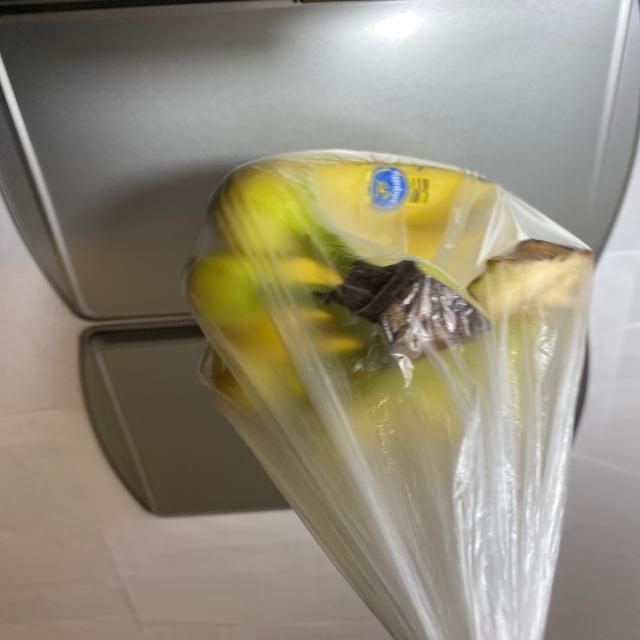banana: (180, 150, 599, 446)
